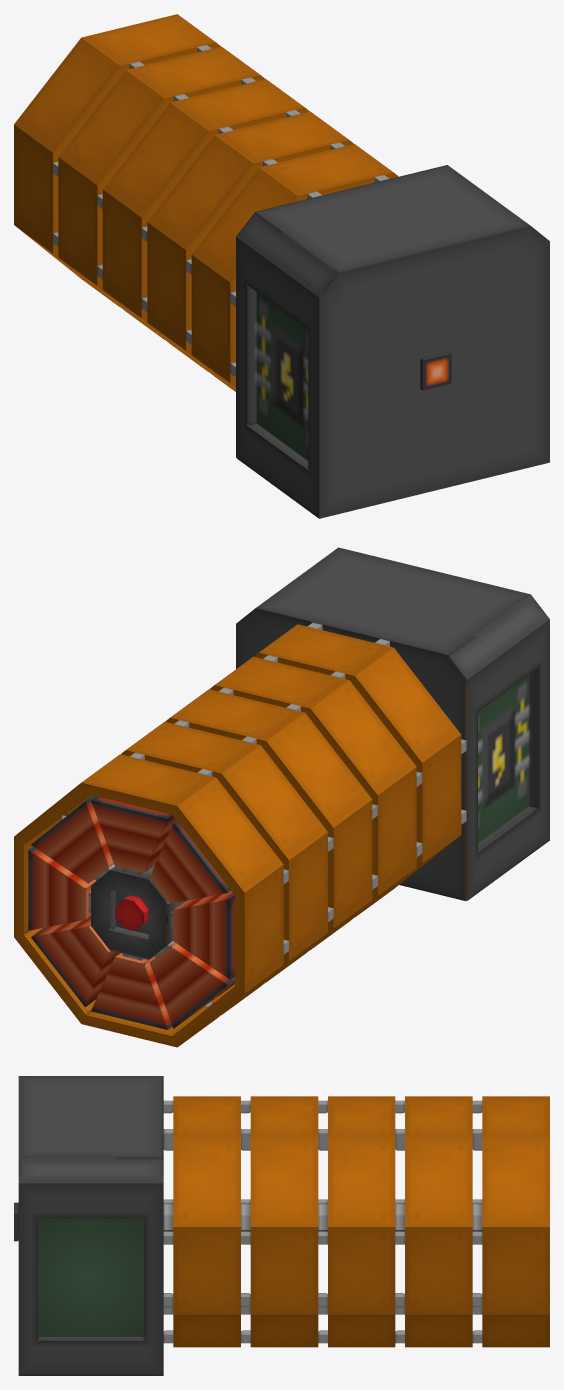
File: fel.obj
The picture shows the model from 3 angles, top to bottom: view 1: azimuth 30°, elevation 25°; view 2: azimuth 150°, elevation 25°; view 3: azimuth 270°, elevation 25°; orthographic projection. The views are drawn at different scales.
Parts seen in each view (by area): view 1: Cube_Cube.001; view 2: Cube_Cube.001; view 3: Cube_Cube.001.
Boxes of the visible parts, left/top/right/bottom form: Cube_Cube.001: left=14, top=14, right=549, bottom=518; Cube_Cube.001: left=14, top=547, right=549, bottom=1047; Cube_Cube.001: left=14, top=1076, right=549, bottom=1375.
Size of the model in its own units: 3 by 3 by 6.94.
